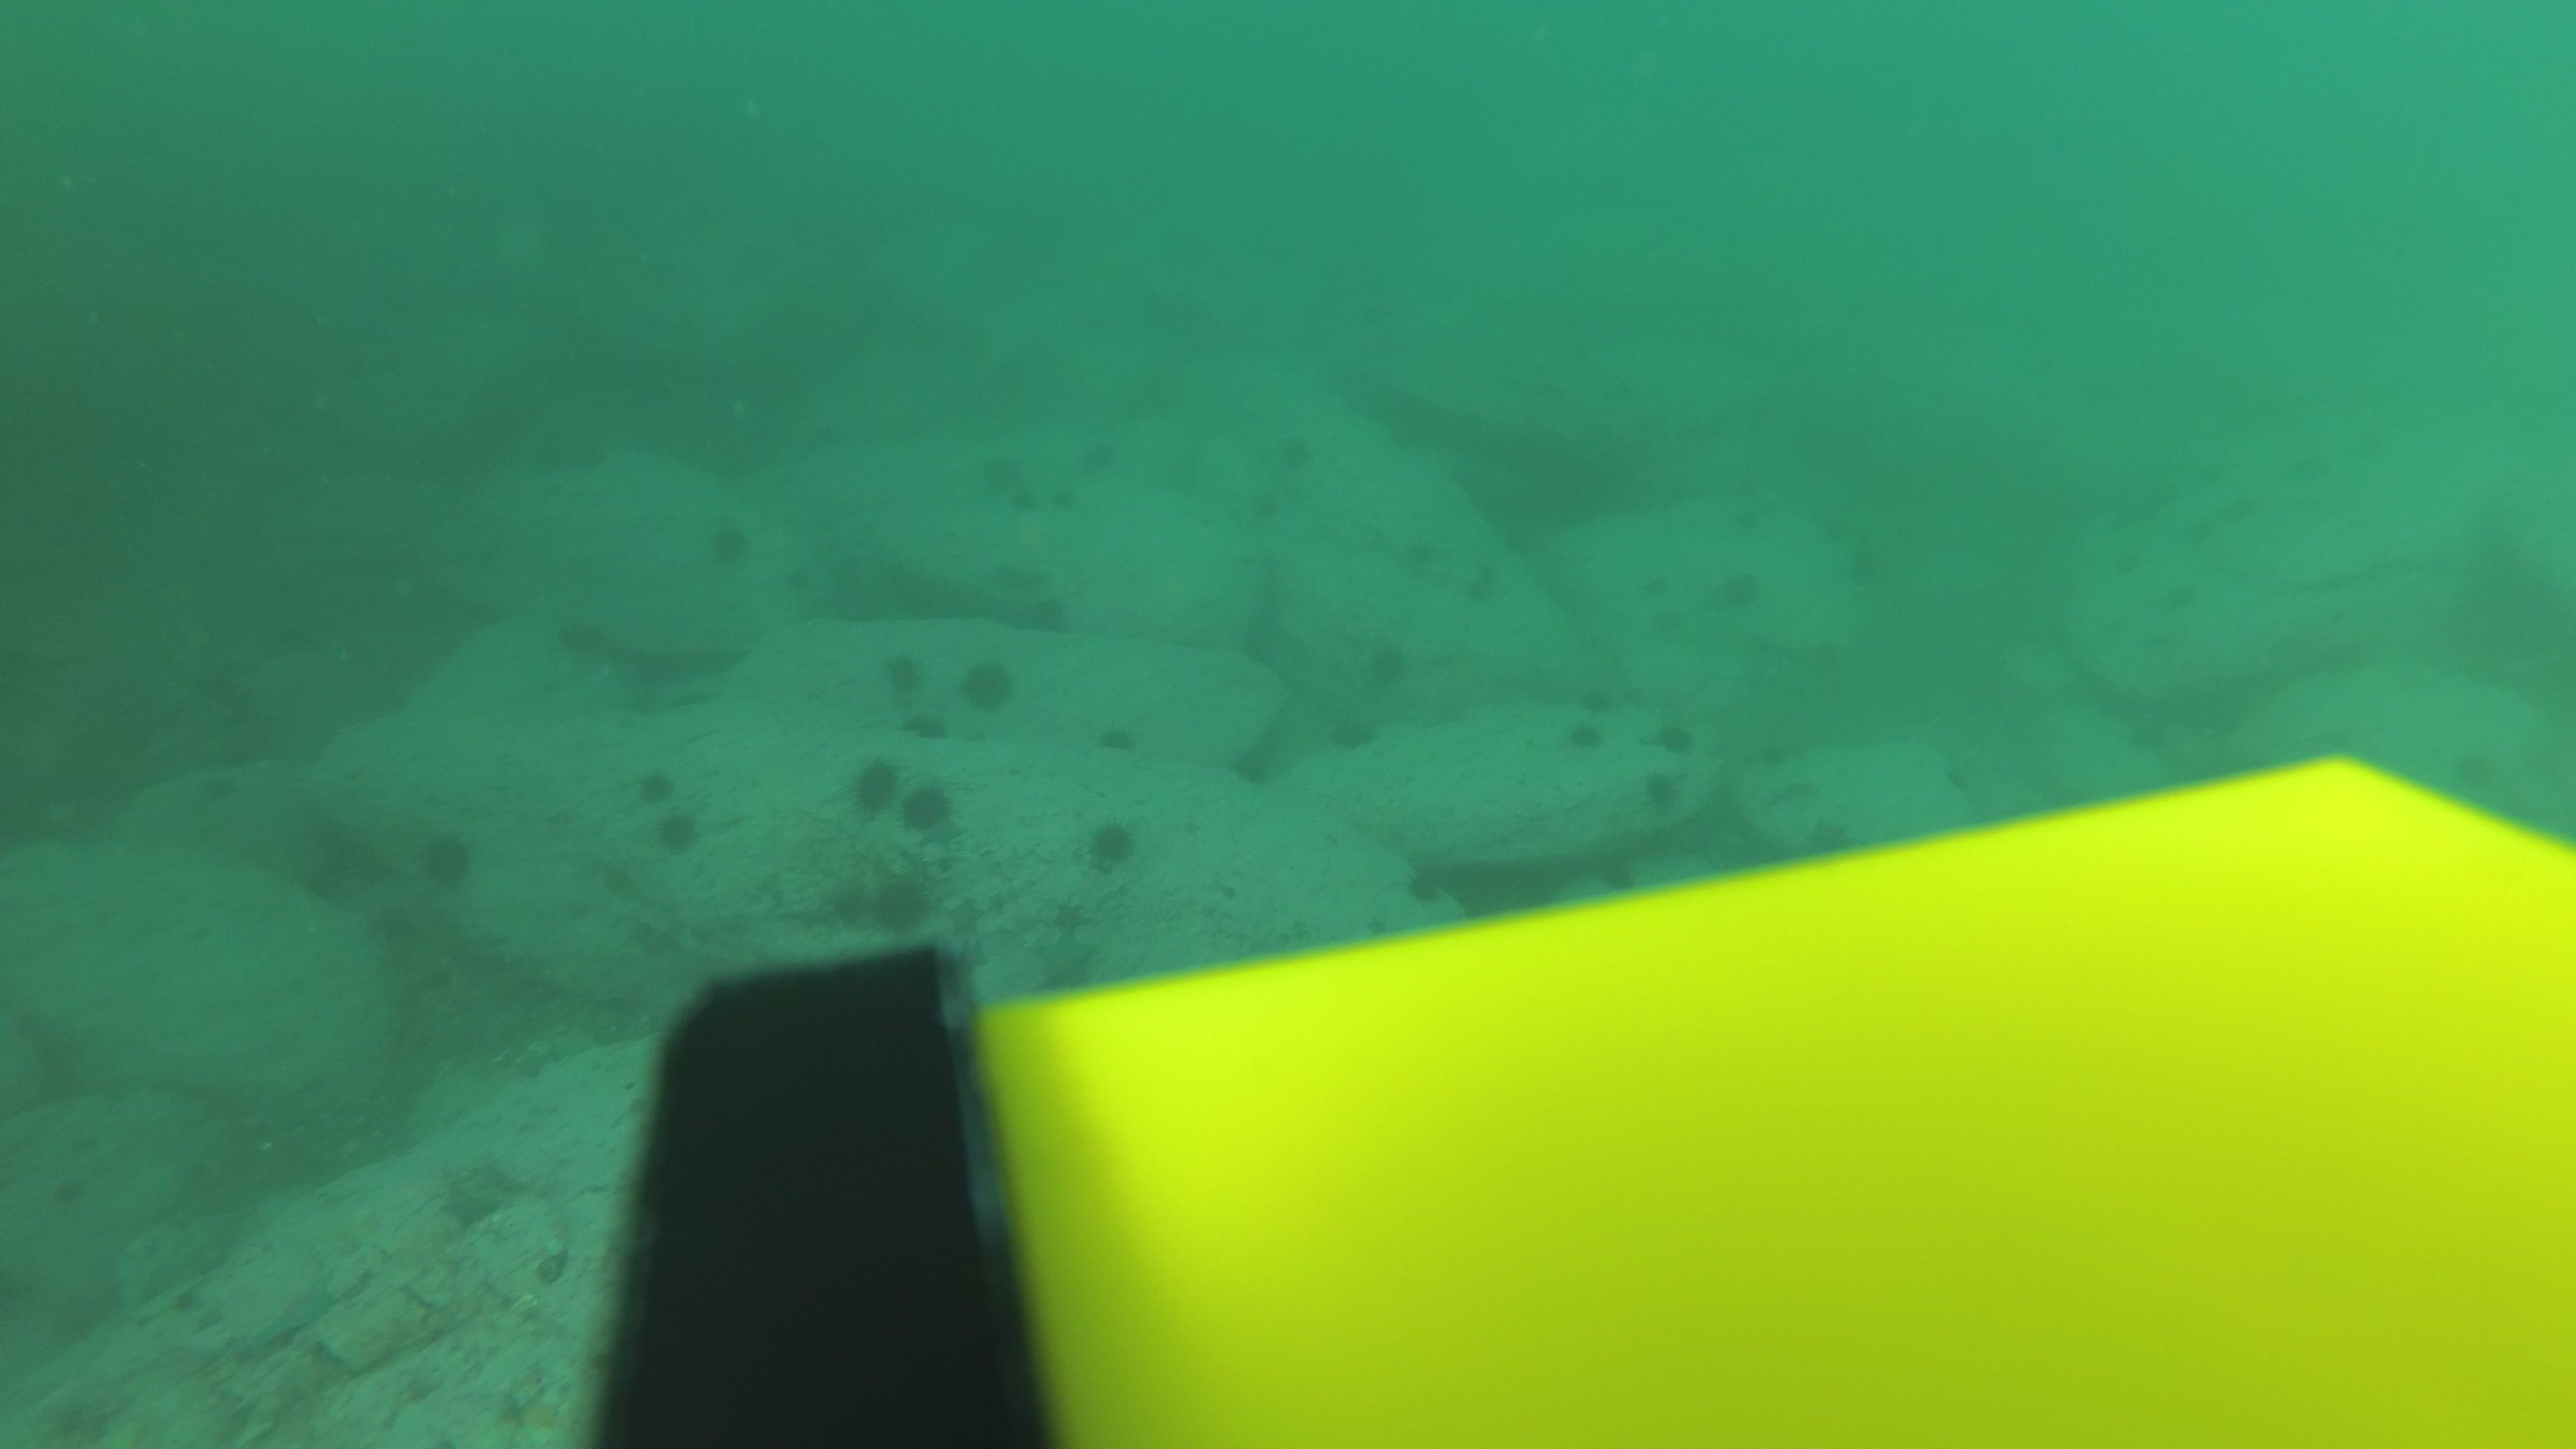echinus: (290, 812, 380, 904), (416, 824, 478, 890), (849, 755, 909, 823), (869, 870, 931, 932), (649, 791, 701, 855), (962, 655, 1016, 713), (1403, 853, 1458, 908), (1085, 816, 1138, 870), (1228, 734, 1281, 789), (704, 513, 754, 570), (554, 610, 607, 662), (1362, 635, 1412, 690), (902, 780, 952, 833), (1327, 711, 1380, 755), (1718, 564, 1764, 614), (633, 764, 679, 810), (881, 648, 925, 695), (1562, 715, 1606, 757), (1640, 770, 1683, 814), (1649, 717, 1695, 757), (1730, 501, 1771, 536), (1805, 637, 1845, 672), (1468, 559, 1509, 594), (1281, 433, 1322, 469), (1249, 488, 1290, 524), (1389, 414, 1430, 449), (971, 444, 1012, 479), (998, 479, 1039, 515), (1100, 720, 1141, 755), (2162, 580, 2203, 616), (2229, 490, 2270, 525), (2298, 455, 2339, 490), (2125, 717, 2166, 752), (1941, 759, 1982, 794), (1640, 566, 1679, 602), (1463, 579, 1502, 614), (1046, 481, 1085, 517), (902, 717, 941, 752), (2181, 508, 2220, 543), (2457, 754, 2496, 789), (1582, 686, 1622, 720), (1647, 609, 1688, 642), (1840, 550, 1881, 584), (1491, 524, 1532, 557), (1596, 865, 1637, 899), (1028, 600, 1067, 633), (2346, 430, 2385, 464)
starfish: (211, 1254, 370, 1357), (433, 1162, 513, 1233), (1035, 920, 1100, 985), (1044, 899, 1095, 957), (1806, 803, 1858, 862), (1065, 426, 1116, 485), (945, 893, 989, 939), (947, 938, 991, 982), (920, 816, 964, 860), (985, 890, 1014, 918)
